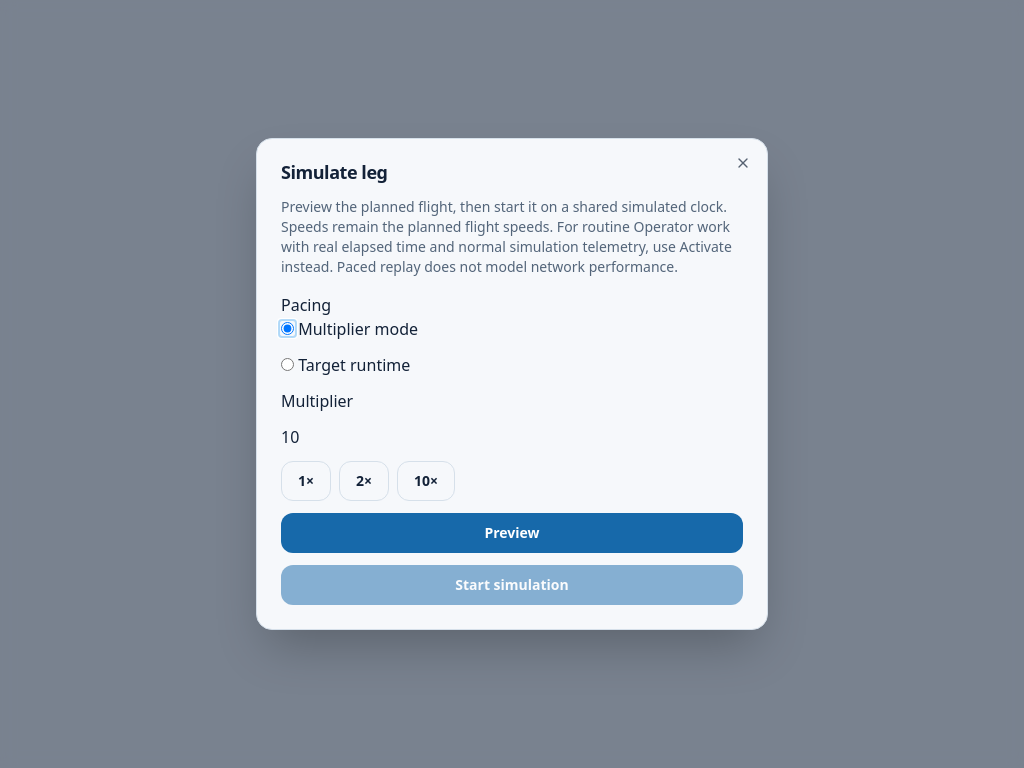
keeps the draft on failed start and shows a retryable error
The image size is (1024, 768).
Click the button "Preview".
click(512, 533)  # box [281, 513, 743, 553]
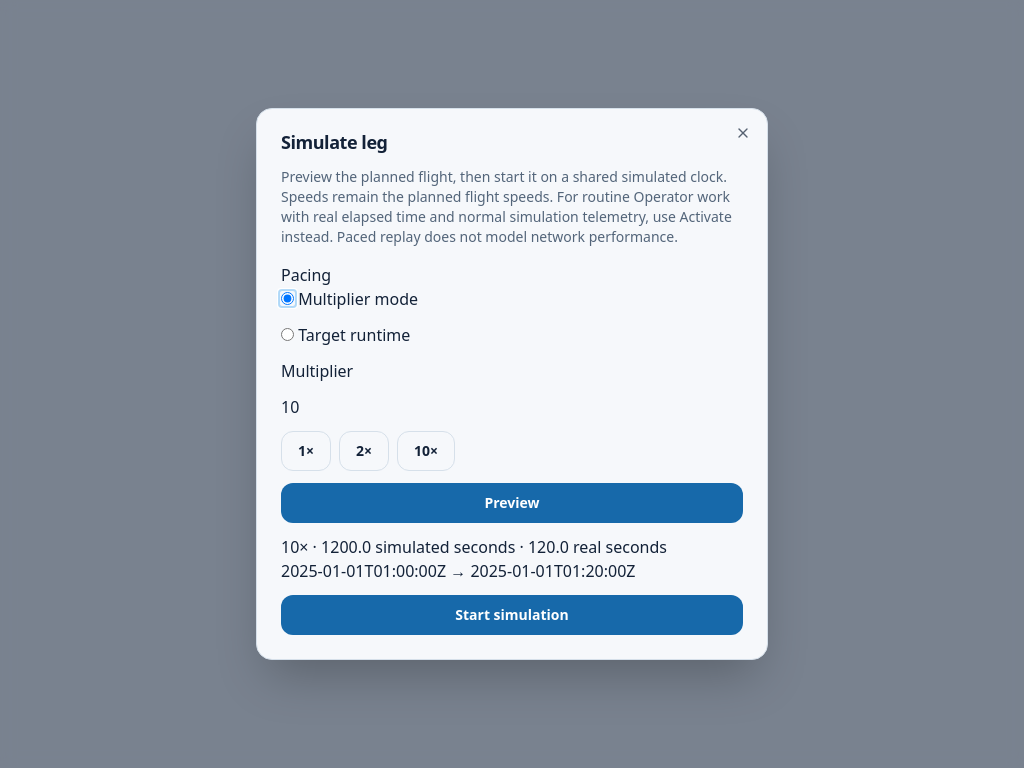
Expected: the button "Start simulation" is enabled
Click the button "Start simulation".
click(512, 615)  # box [281, 595, 743, 635]
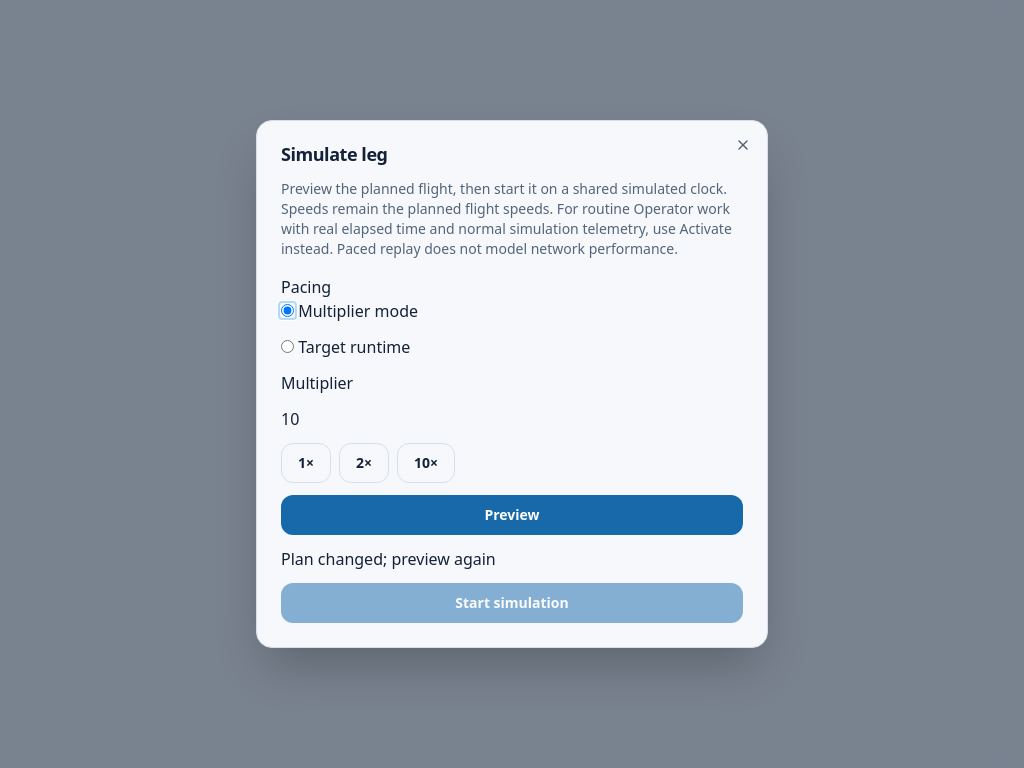
Expected: the number field labelled "Multiplier" holds "10", [281, 407, 743, 431]
Expected: the message shows "Plan changed", [281, 548, 496, 570]
